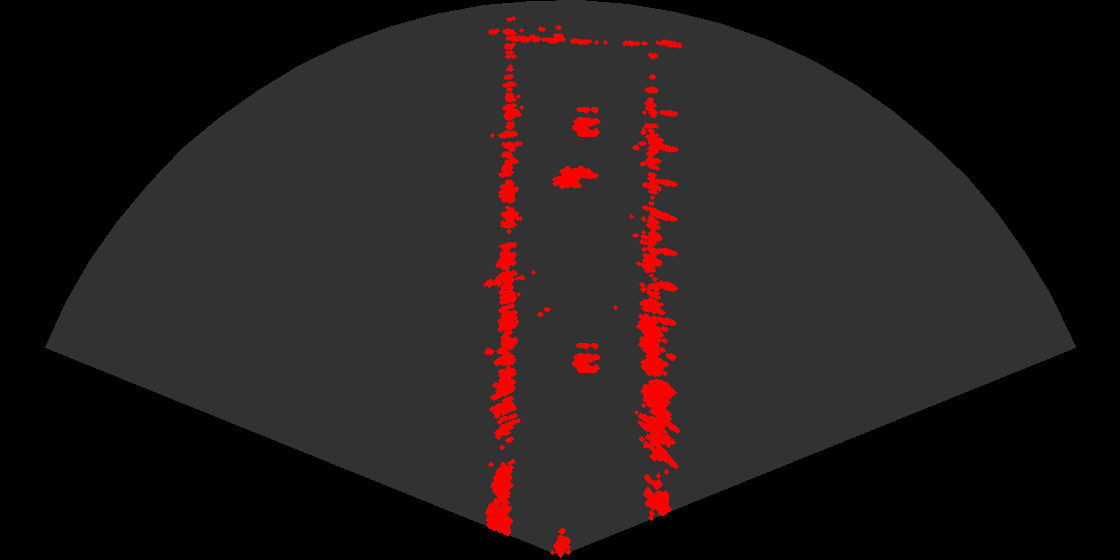AUV: (546, 164, 602, 196)
ball: (552, 335, 612, 376), (552, 99, 612, 140)
